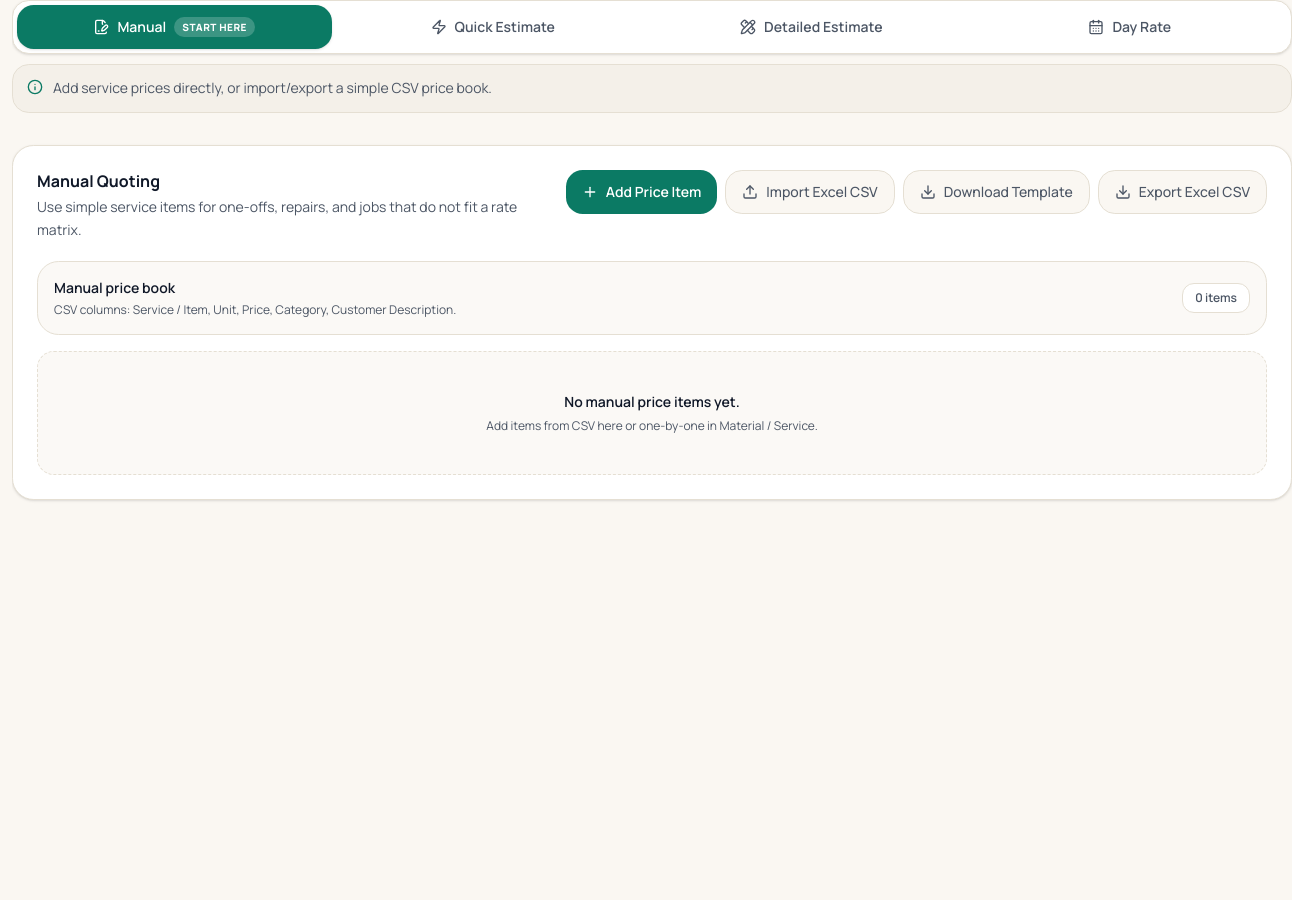
Test: PriceRatesForm pricing setup › shows quick and advanced setup warnings for zero or missing required rates
Click the tab "Quick Estimate": [493, 27] box [336,5,650,49]
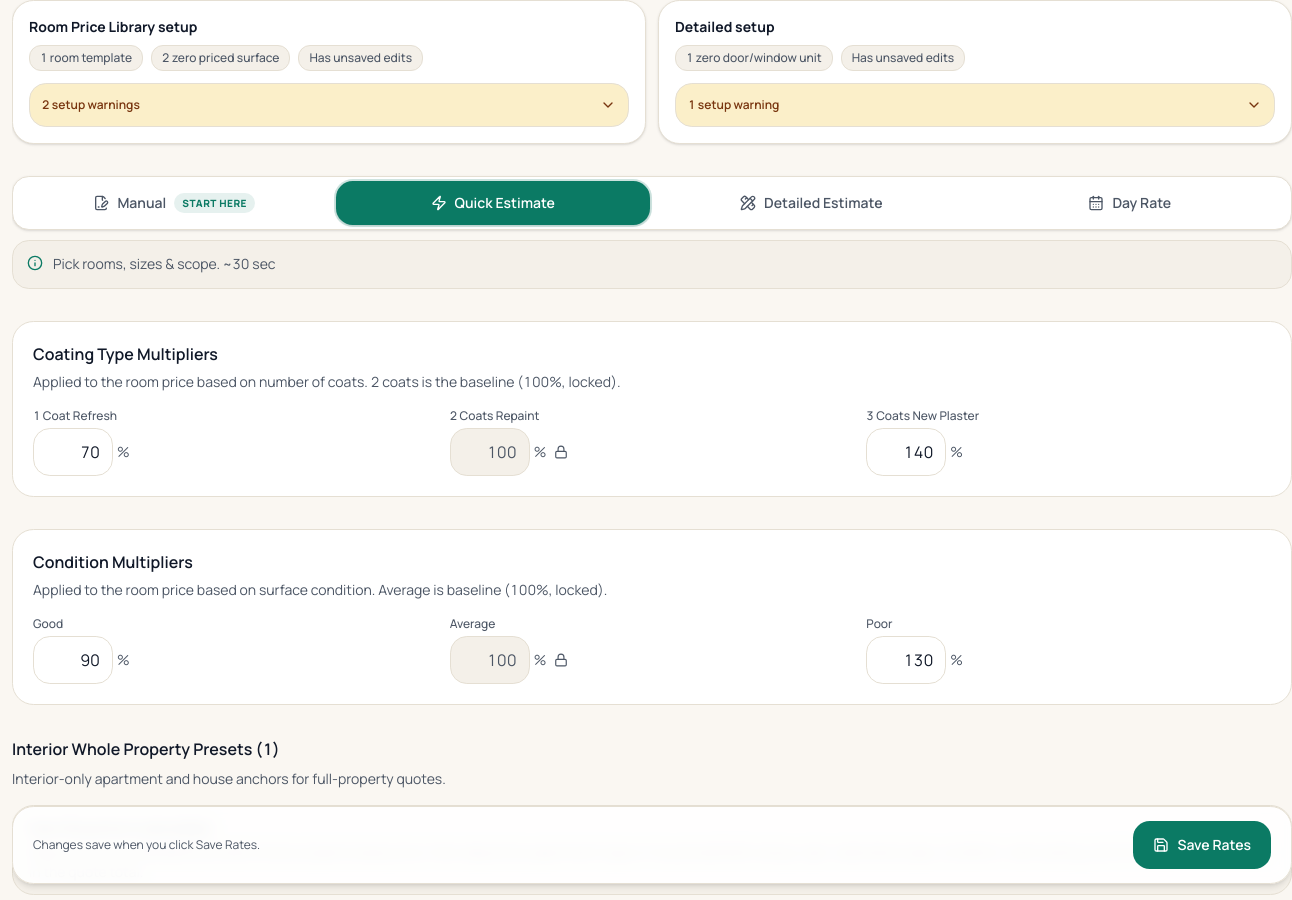
expect the heading "Room Price Library setup" is shown: met, box [29,17,197,36]
expect the text "1 room template" is shown: met, box [29,45,143,71]
expect the text "2 zero priced surface" is shown: met, box [151,45,290,71]
